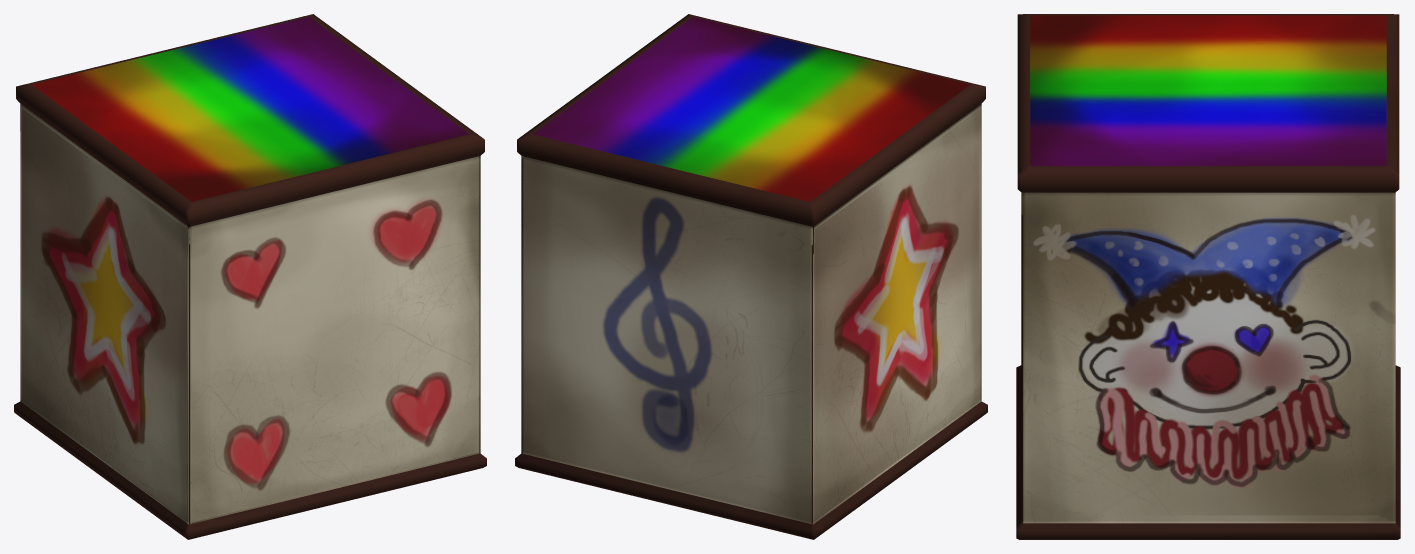
The picture shows the model from 3 angles, left to right: view 1: azimuth 30°, elevation 25°; view 2: azimuth 150°, elevation 25°; view 3: azimuth 270°, elevation 25°; orthographic projection. The views are drawn at different scales.
Parts seen in each view (by area): view 1: Cube; view 2: Cube; view 3: Cube.
Part boxes in pixels (<box>): Cube: <box>14,14,486,539</box>; Cube: <box>515,14,987,539</box>; Cube: <box>1016,14,1400,539</box>.
Bounding box in the file's own units: 206 × 218 × 206.
